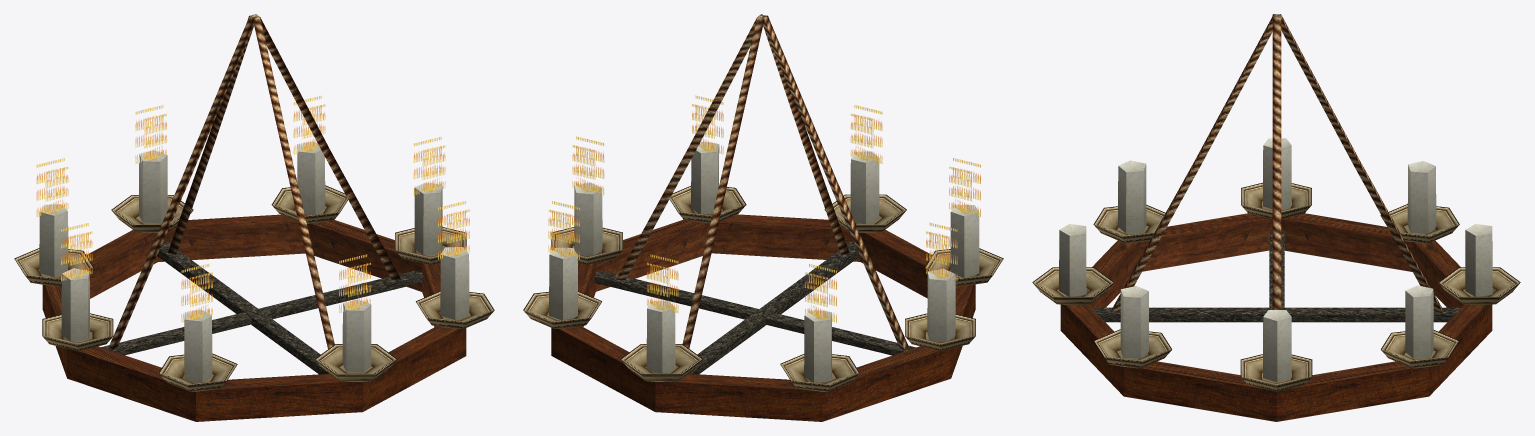
File: mm9_deco_chandelier2.glb
3 renders of one model, left to right at view 1: azimuth 30°, elevation 25°; view 2: azimuth 150°, elevation 25°; view 3: azimuth 270°, elevation 25°, orthographic.
Visible parts, largest first — view 1: Chandelier2; view 2: Chandelier2; view 3: Chandelier2.
Boxes of the visible parts, bbox=[...] form: Chandelier2: bbox=[14, 14, 494, 421]; Chandelier2: bbox=[523, 14, 1003, 421]; Chandelier2: bbox=[1032, 14, 1520, 421].
Size of the model in its own units: 2.36 by 1.68 by 2.36.
3 materials, 3 textured.
